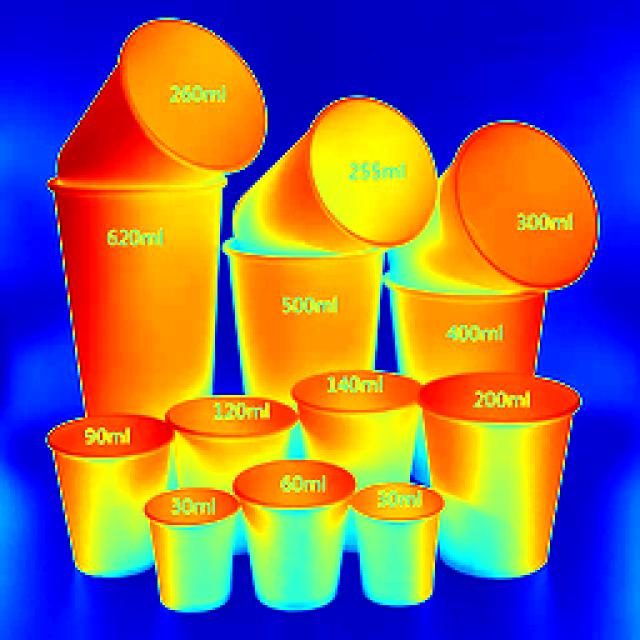Paper Cups: (36, 150, 234, 430)
